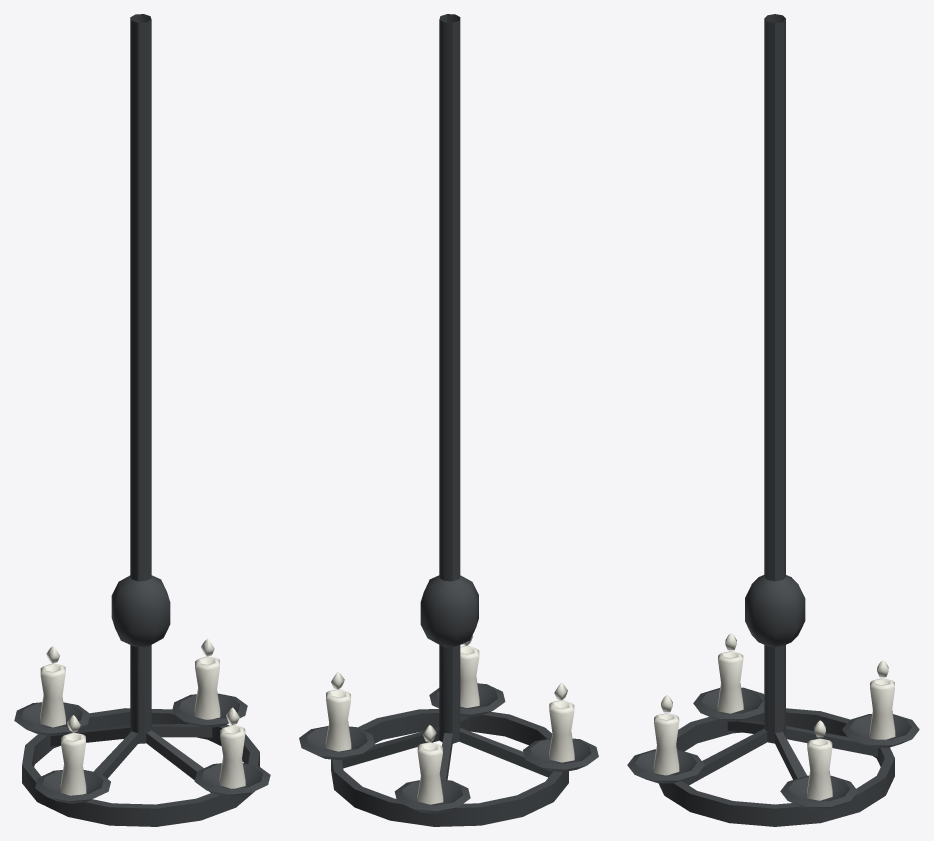
Rendered from M_lustre.FBX.
3 views of the same model, side by side, from view 1: azimuth 30°, elevation 25°; view 2: azimuth 150°, elevation 25°; view 3: azimuth 270°, elevation 25° (orthographic).
Parts seen in each view (by area): view 1: Cylinder002, Box002; view 2: Cylinder002; view 3: Cylinder002, Box002.
Boxes of the visible parts, x1,y1,x2,y2 form: Cylinder002: (14, 14, 270, 826); Box002: (46, 638, 239, 732); Cylinder002: (299, 14, 598, 826); Cylinder002: (627, 14, 919, 826); Box002: (661, 633, 888, 737).
Bounding box in the file's own units: 129 × 384 × 134.
